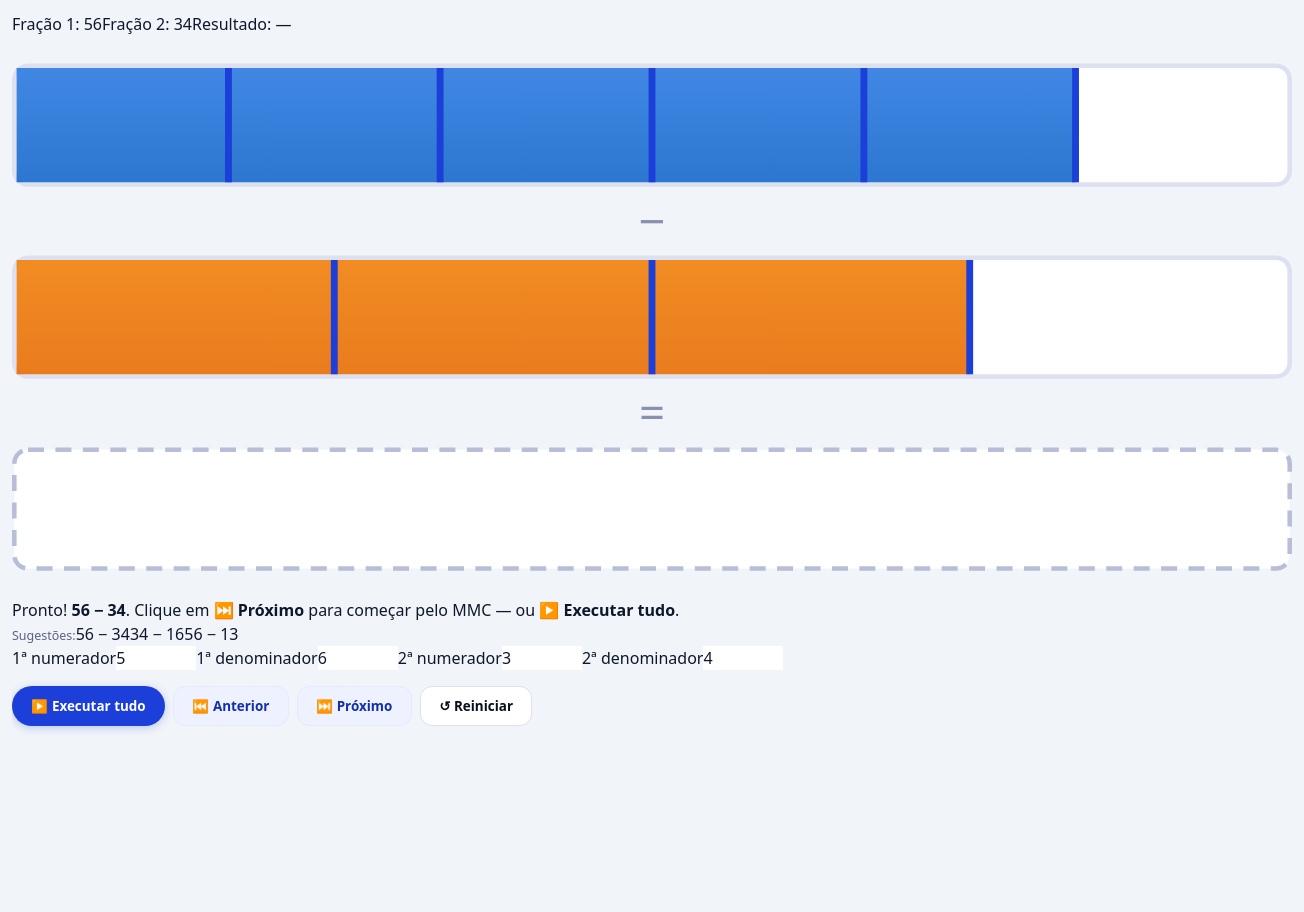
SubtracaoBarrasSimulator — subtração com as 3 barras › ▶ Executar tudo percorre as fases sozinhas até o resultado final
Click the button "▶ Executar tudo" at (88,706), box [12, 686, 165, 726]
Wait 12000 ms
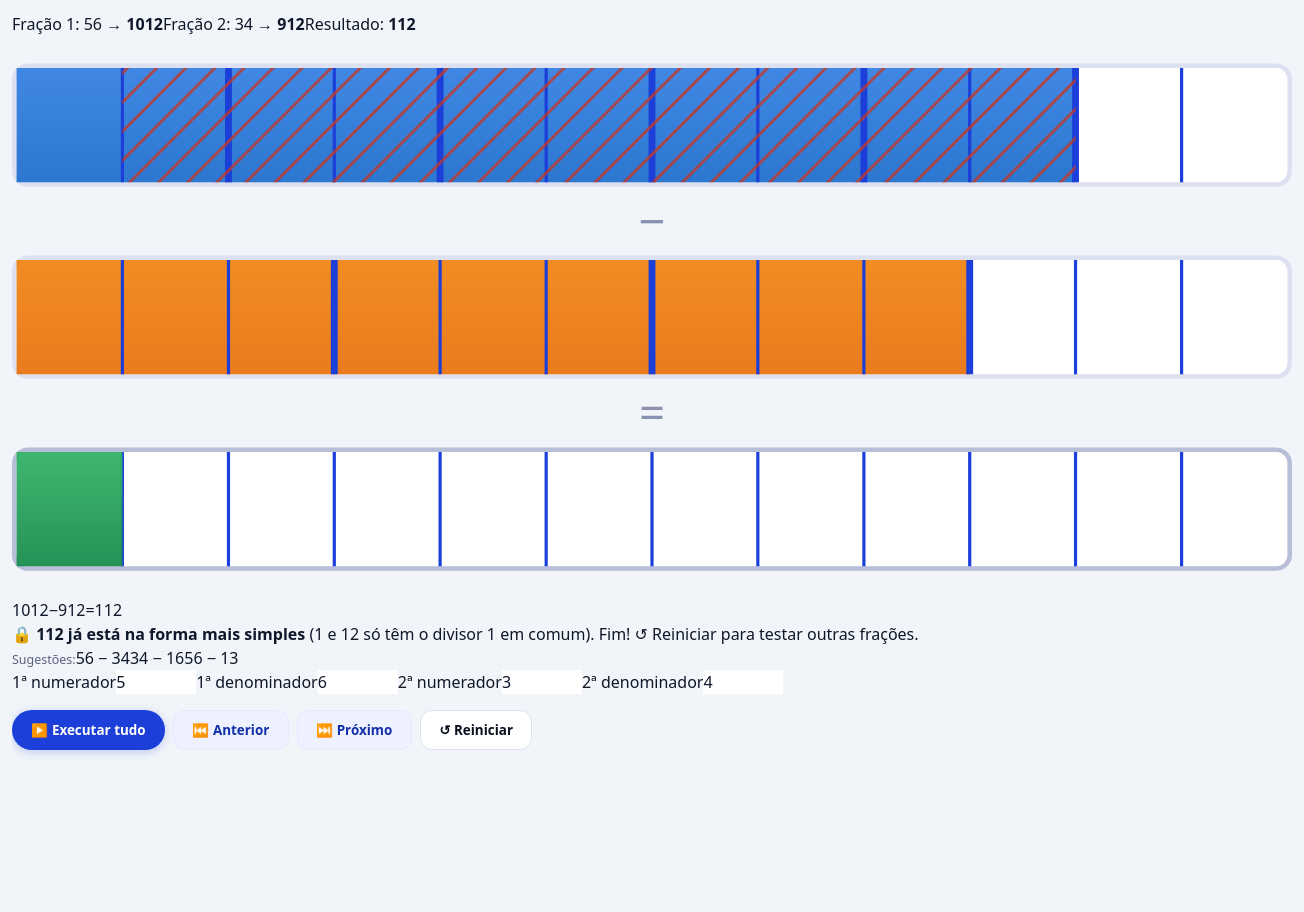
Check: the message with class "sim-status" shows "forma mais simples", box [64, 623, 305, 645]
Check: the button "▶ Executar tudo" is disabled, box [12, 710, 165, 750]
